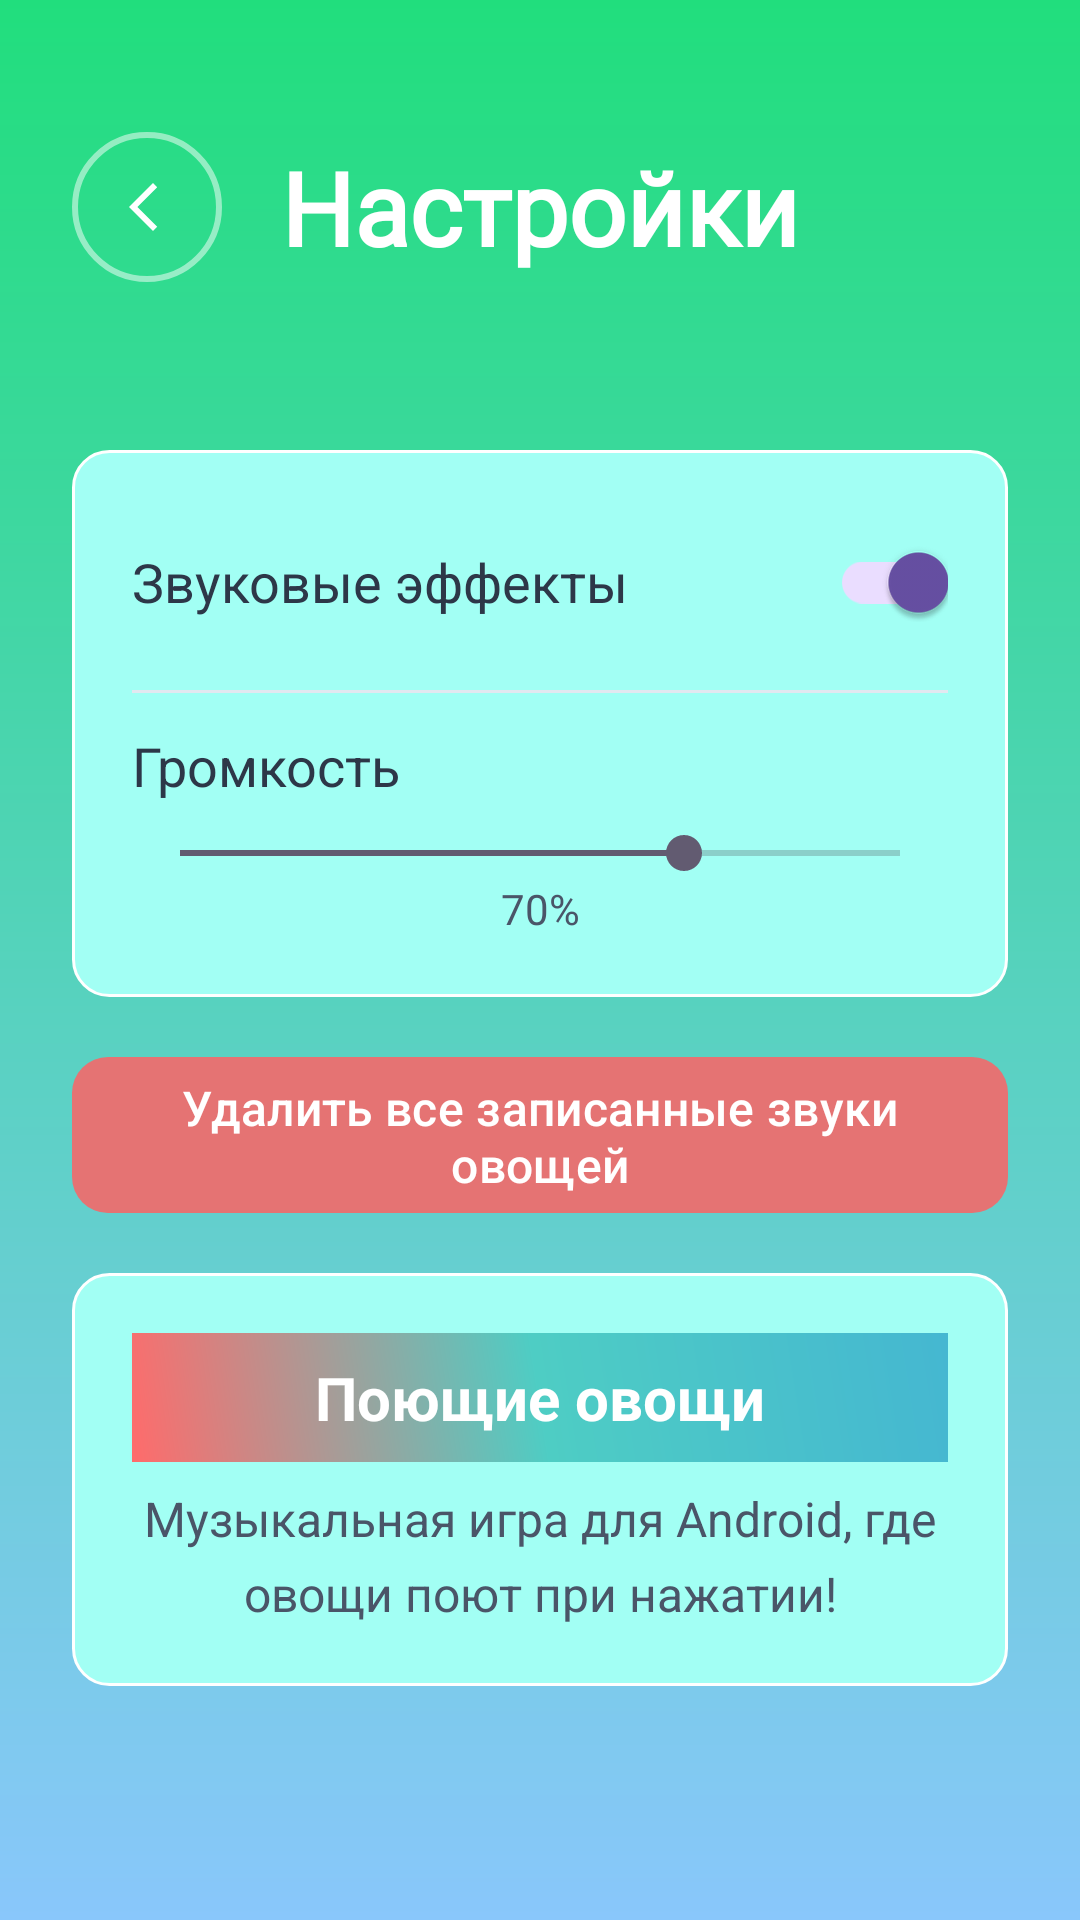

Screen size 1080w x 1920h. Icon name, then its center in pixels as (x,y):
Назад: (147,207)
